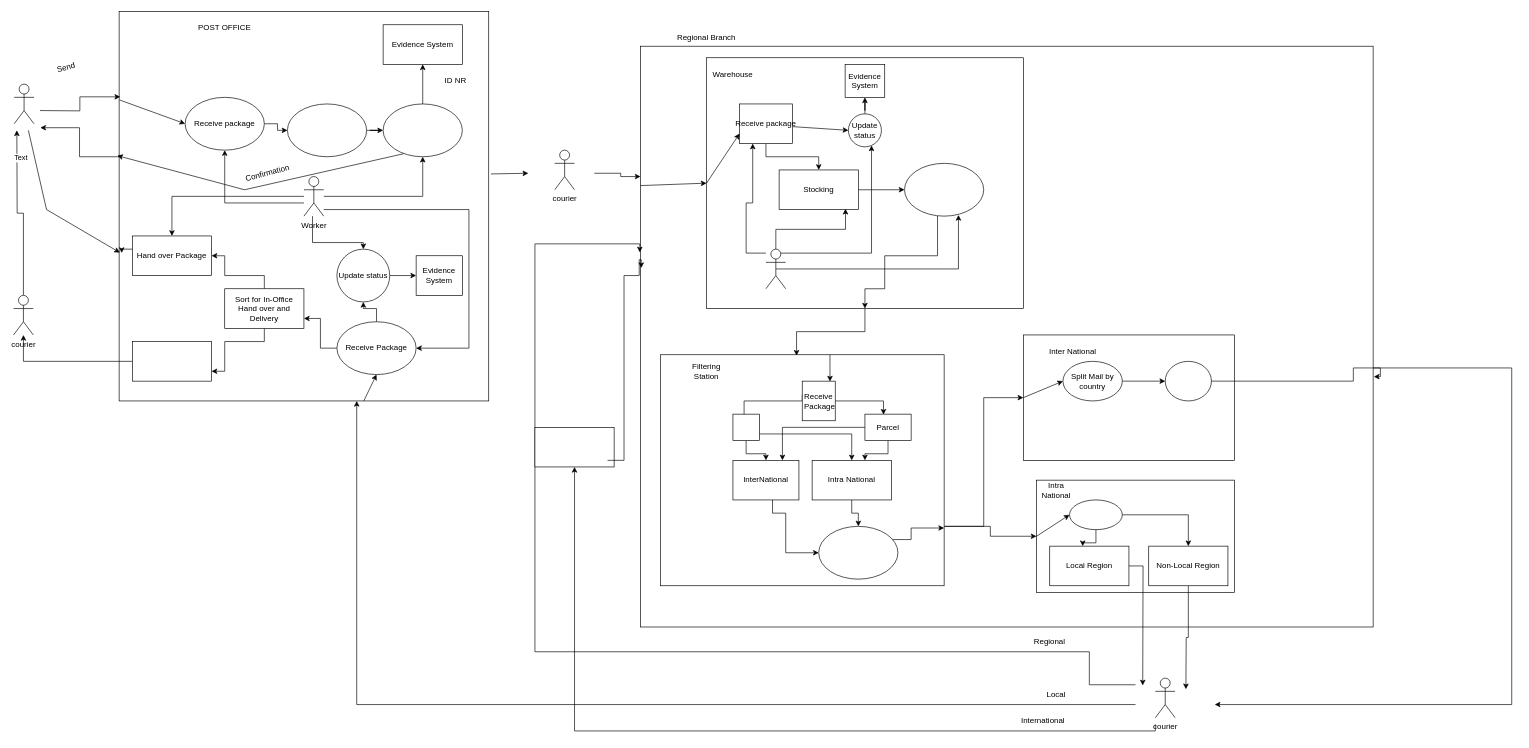
Some shapes in this 1529 by 748 pixel diagram are drawn without their labels. The shapes that lost their labels are listed below. From the top down, each one's box as (x1, y1, x2, y2) in pixels, then its label:
(14, 83, 34, 124): user
(287, 103, 367, 157): Calculate cost
(382, 103, 462, 157): Register
(904, 163, 984, 216): Take out for filtering
(765, 248, 786, 289): Werehouse Worker
(132, 341, 212, 381): Deliver to Client
(1165, 361, 1211, 401): Prepare for Delivery
(534, 427, 614, 467): Redistribute Across Country Regional branches
(732, 413, 759, 441): Mail
(1069, 499, 1122, 530): Split Mail
(818, 526, 898, 579): Take out for loading
